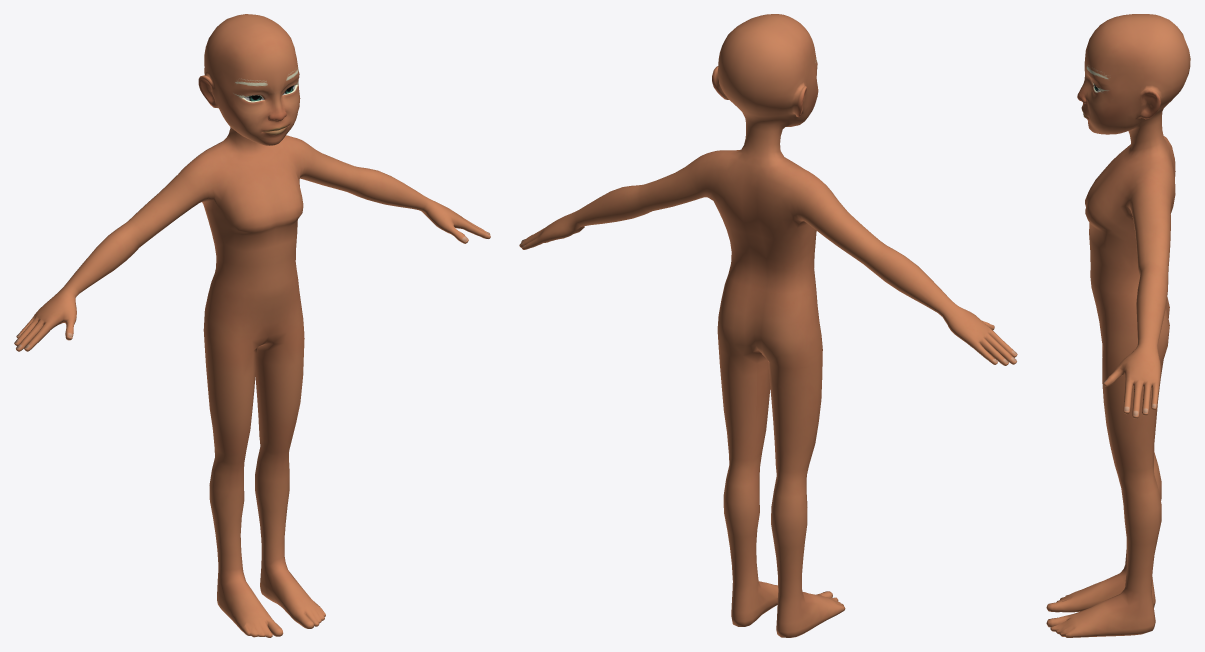
Rendered from frame_0049.glb.
3 renders of one model, left to right at view 1: azimuth 30°, elevation 25°; view 2: azimuth 150°, elevation 25°; view 3: azimuth 270°, elevation 25°, orthographic. The views are drawn at different scales.
Parts seen in each view (by area): view 1: frame_0049_head_geo; view 2: frame_0049_head_geo; view 3: frame_0049_head_geo.
Boxes of the visible parts, <box> form: frame_0049_head_geo: <box>14,14,490,637</box>; frame_0049_head_geo: <box>519,14,1017,637</box>; frame_0049_head_geo: <box>1046,14,1190,637</box>.
Bounding box in the file's own units: 1.28 × 1.5 × 0.3253.
Materials: 3 (3 with a texture image).
